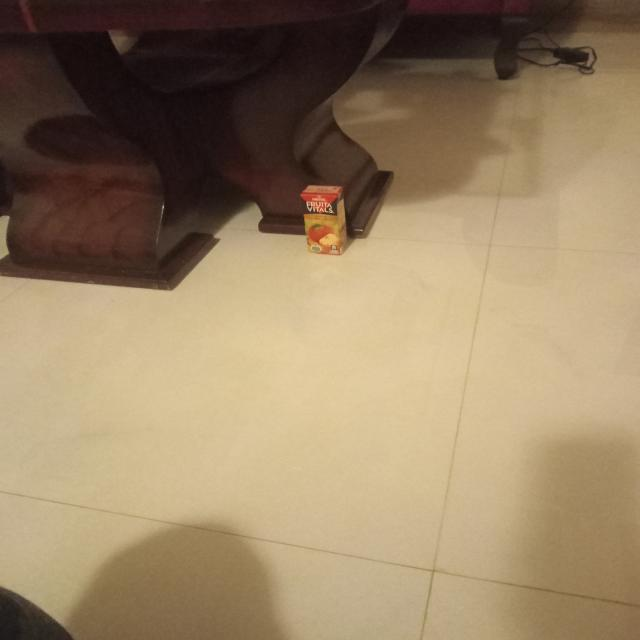Plastic: (304, 183, 348, 252)
